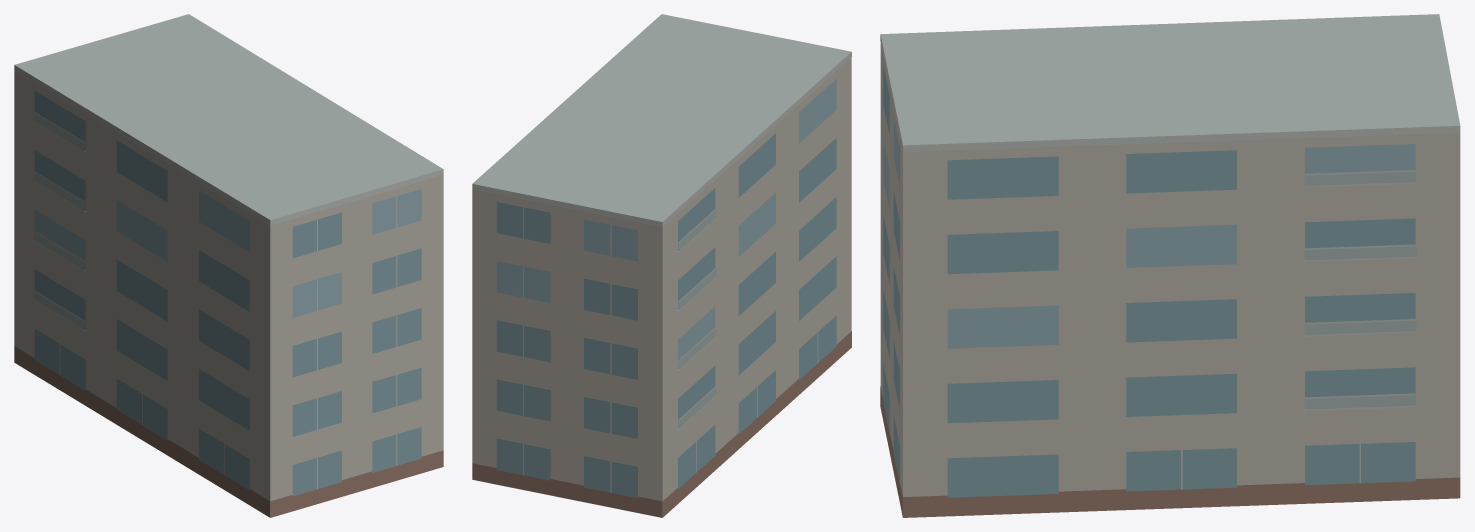
The model's file is survey-upis-32652610.glb.
3 views of the same model, side by side, from view 1: azimuth 30°, elevation 25°; view 2: azimuth 150°, elevation 25°; view 3: azimuth 270°, elevation 25° (orthographic). The views are drawn at different scales.
Parts seen in each view (by area): view 1: survey-upis-32652610.tmp; view 2: survey-upis-32652610.tmp; view 3: survey-upis-32652610.tmp.
Part boxes in pixels (x1,y1,x2,y2): survey-upis-32652610.tmp: (14, 14, 443, 517); survey-upis-32652610.tmp: (472, 14, 851, 517); survey-upis-32652610.tmp: (880, 14, 1460, 517).
Bounding box in the file's own units: 10.07 × 13.3 × 18.78.
